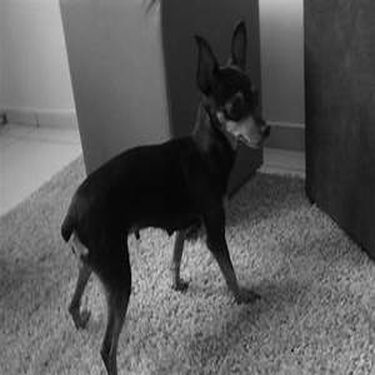dog: (45, 6, 274, 371)
